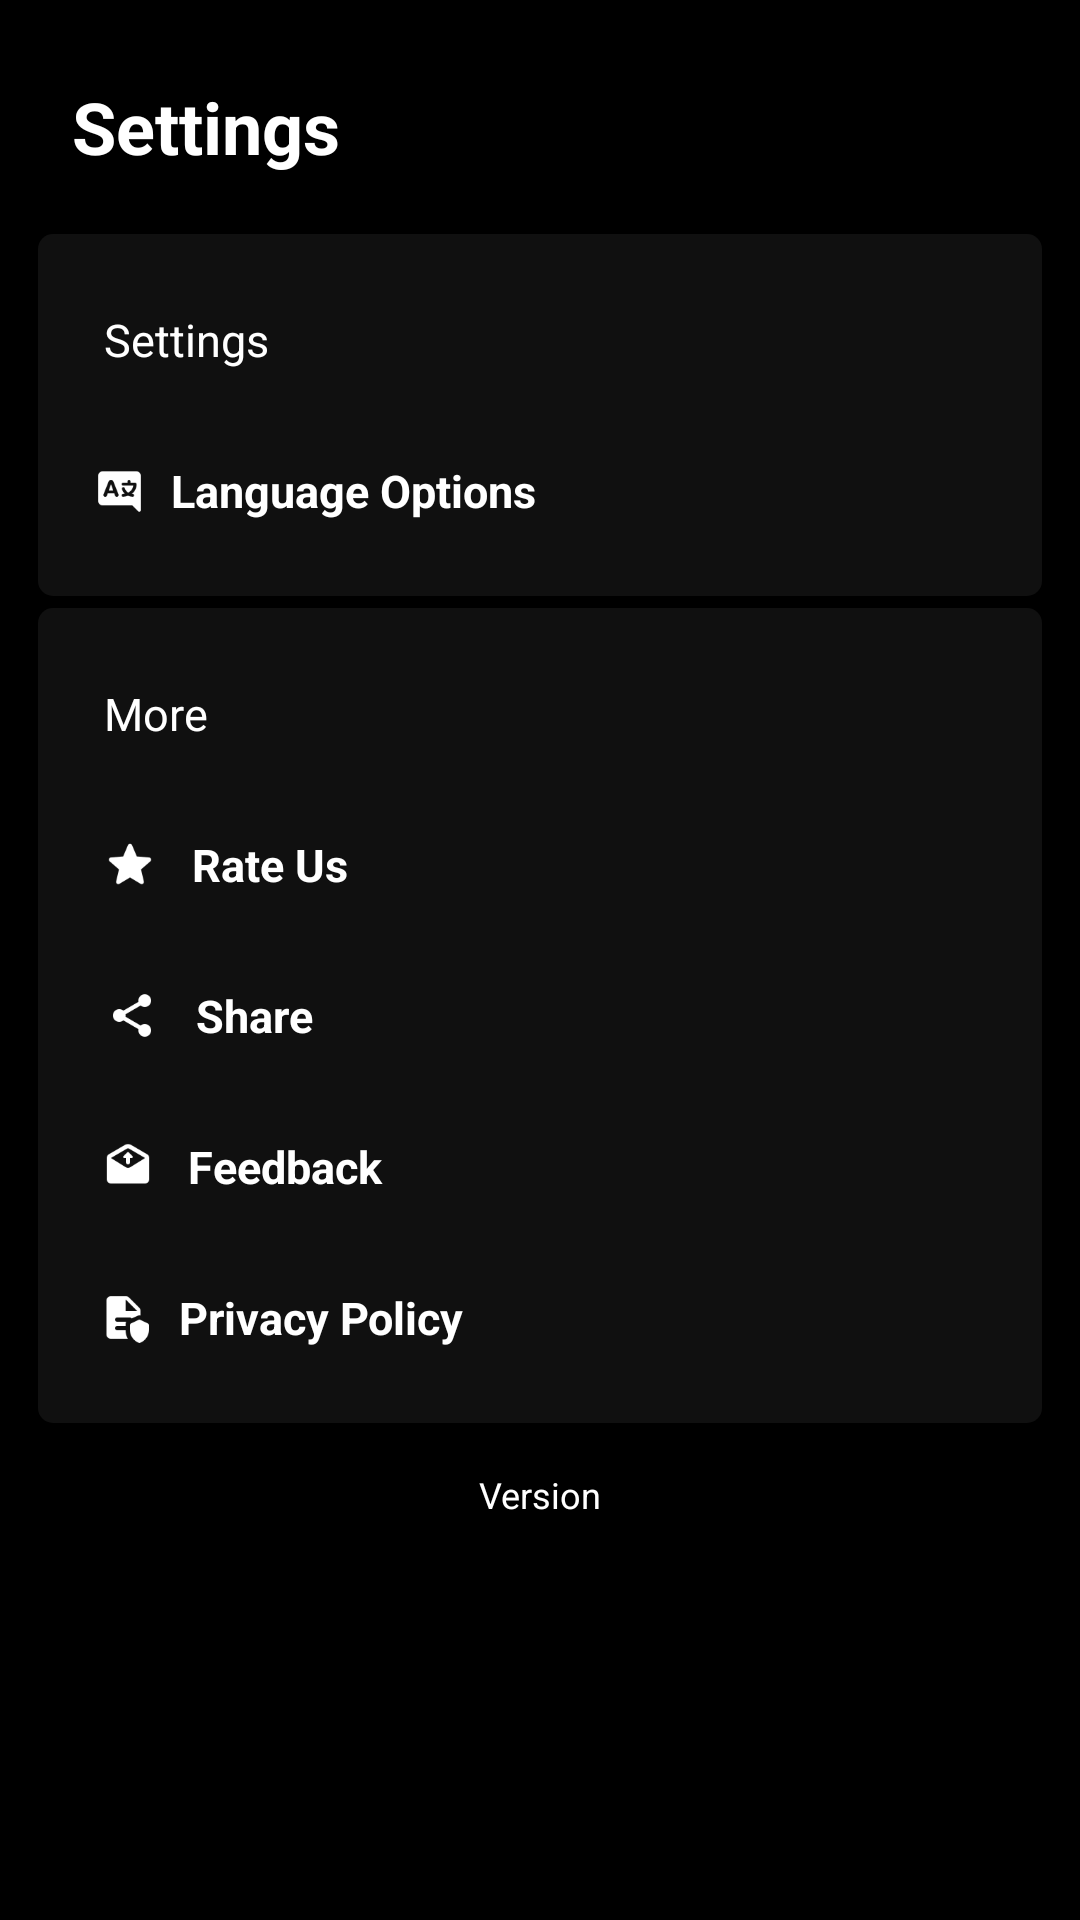

Icons on this 1080x1920 Android screen, each with the point to tap as point (x, y):
star: point (130, 864)
